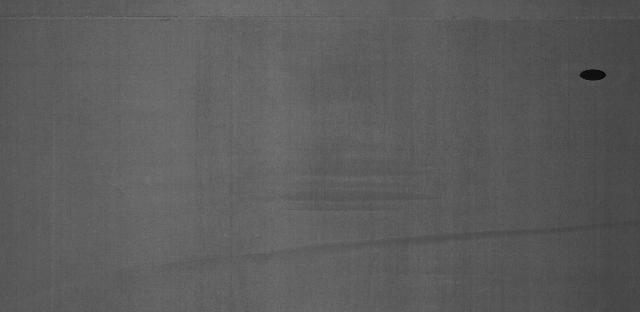punching_hole: (578, 63, 613, 84)
